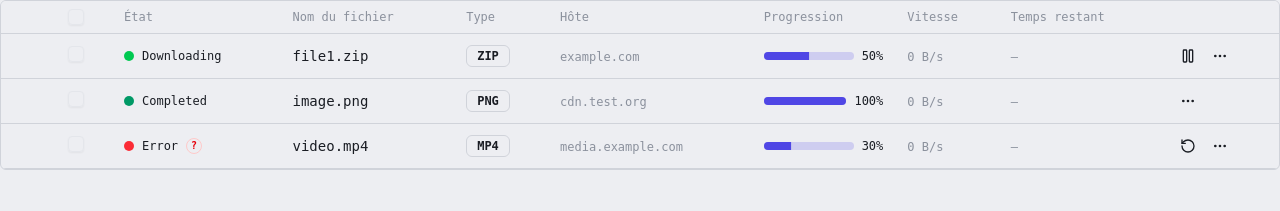
it: DownloadsTable › should render French action menu labels when locale is fr
What coordinates should you click on to do the following:
click the button named "Plus d’actions" in the row of "Downloading"
I would click on:
 (1220, 56)
Its box is [1206, 42, 1234, 70].
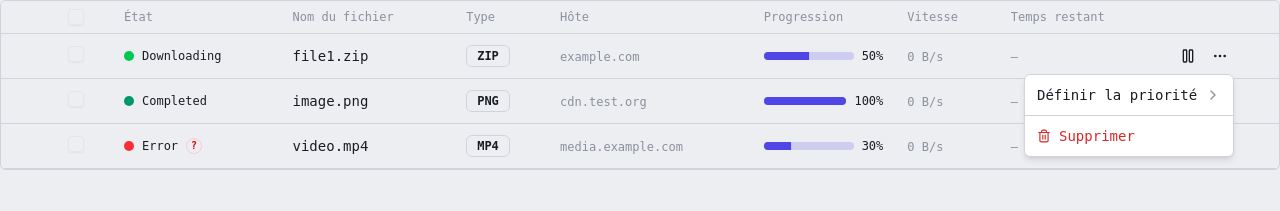
What coordinates should you click on to do the following:
click the menu item "Définir la priorité"
I would click on:
 (1129, 95)
Its box is [1037, 87, 1221, 103].
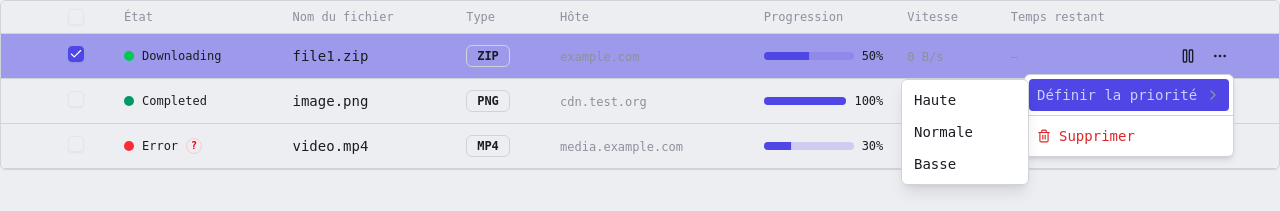
Expected: the menu item "Définir la priorité" is shown, [1029, 79, 1229, 111]
Expected: the menu item "Haute" is shown, [914, 92, 956, 108]
Expected: the menu item "Normale" is shown, [914, 124, 973, 140]
